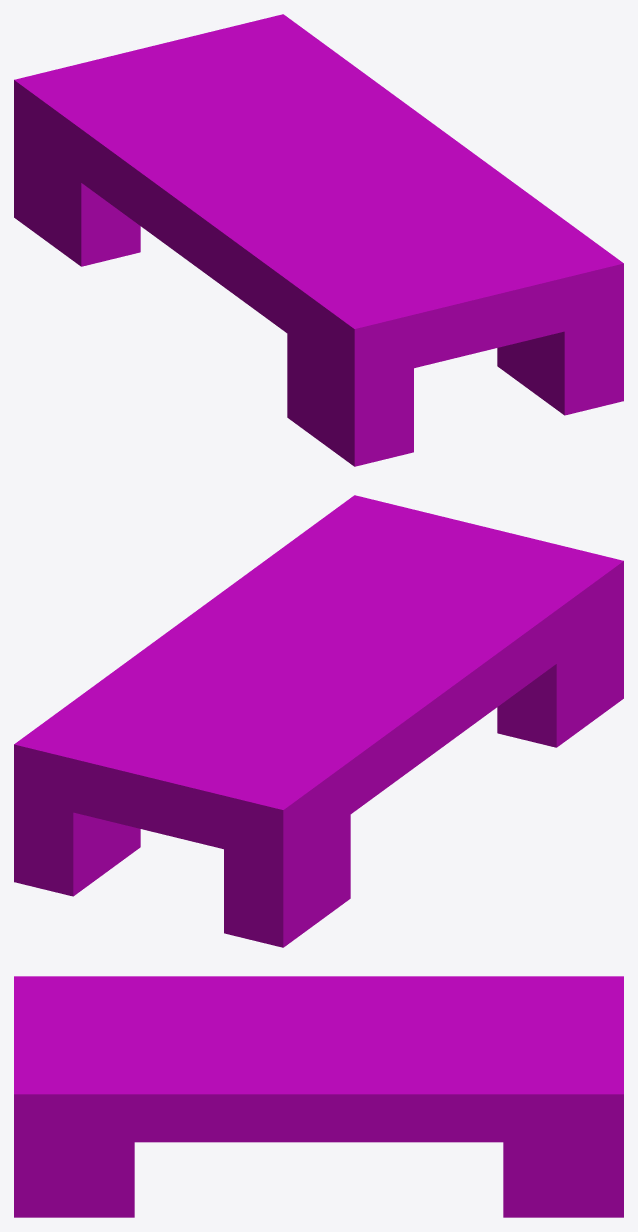
File: TableL.fbx
3 views of the same model, one above another, from view 1: azimuth 30°, elevation 25°; view 2: azimuth 150°, elevation 25°; view 3: azimuth 270°, elevation 25° (orthographic). The views are drawn at different scales.
Parts seen in each view (by area): view 1: Box016; view 2: Box016; view 3: Box016.
Part boxes in pixels (x1,y1,x2,y2): Box016: (14,14,623,466); Box016: (14,495,623,947); Box016: (14,976,623,1217).
Bounding box in the file's own units: 60.5 × 29.54 × 132.
